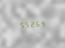five: (24, 20, 29, 28), (18, 21, 23, 28)
four: (42, 19, 47, 26)
six: (36, 19, 41, 27)
two: (30, 20, 35, 27)
